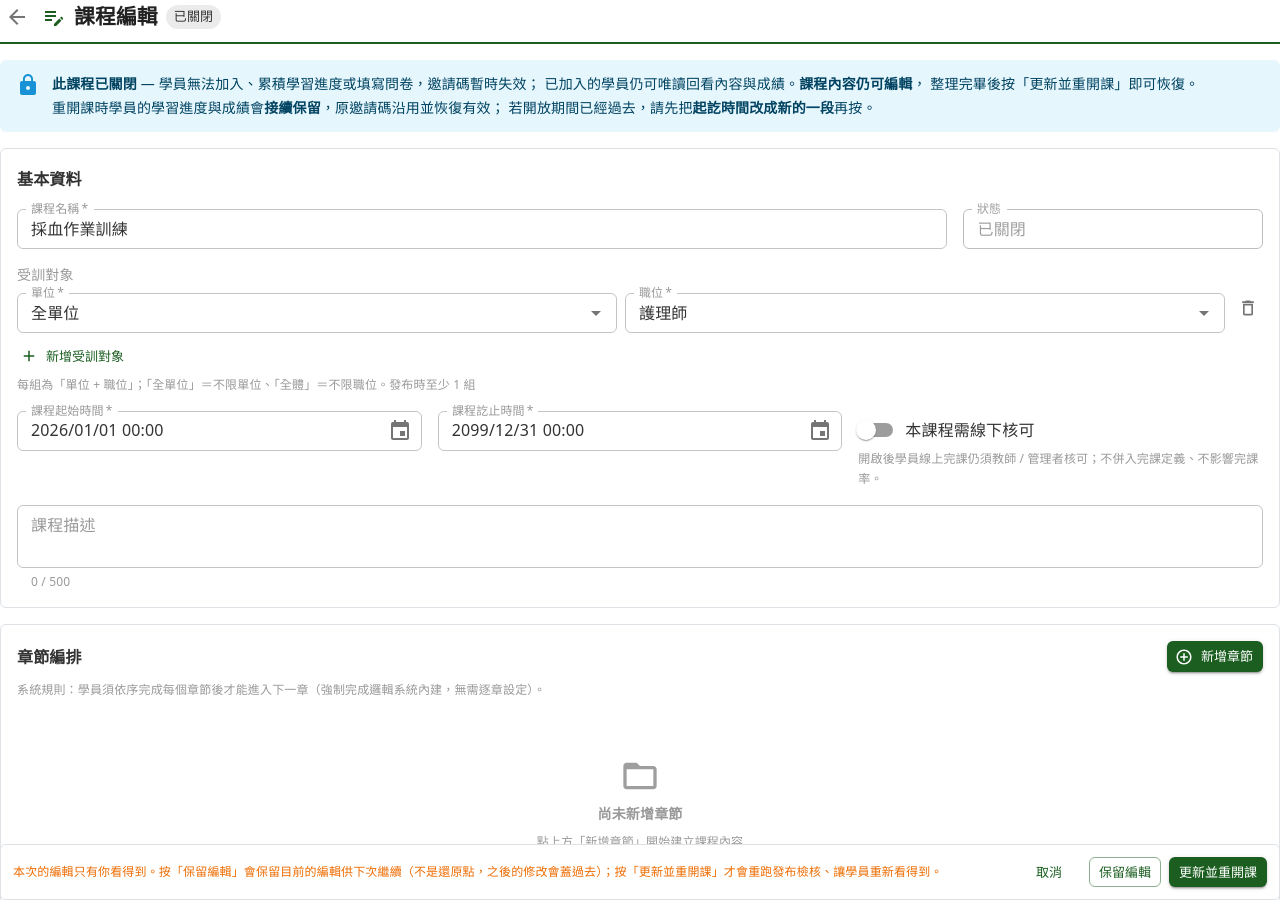
更新並重開課撞上問卷凍結（#768 第 11 項） › 開出帶「放棄問卷的編輯」的視窗，說明重按「更新並重開課」
The width and height of the screenshot is (1280, 900).
Click the button "更新並重開課": (1218,872) 1169,856 -> 1267,887
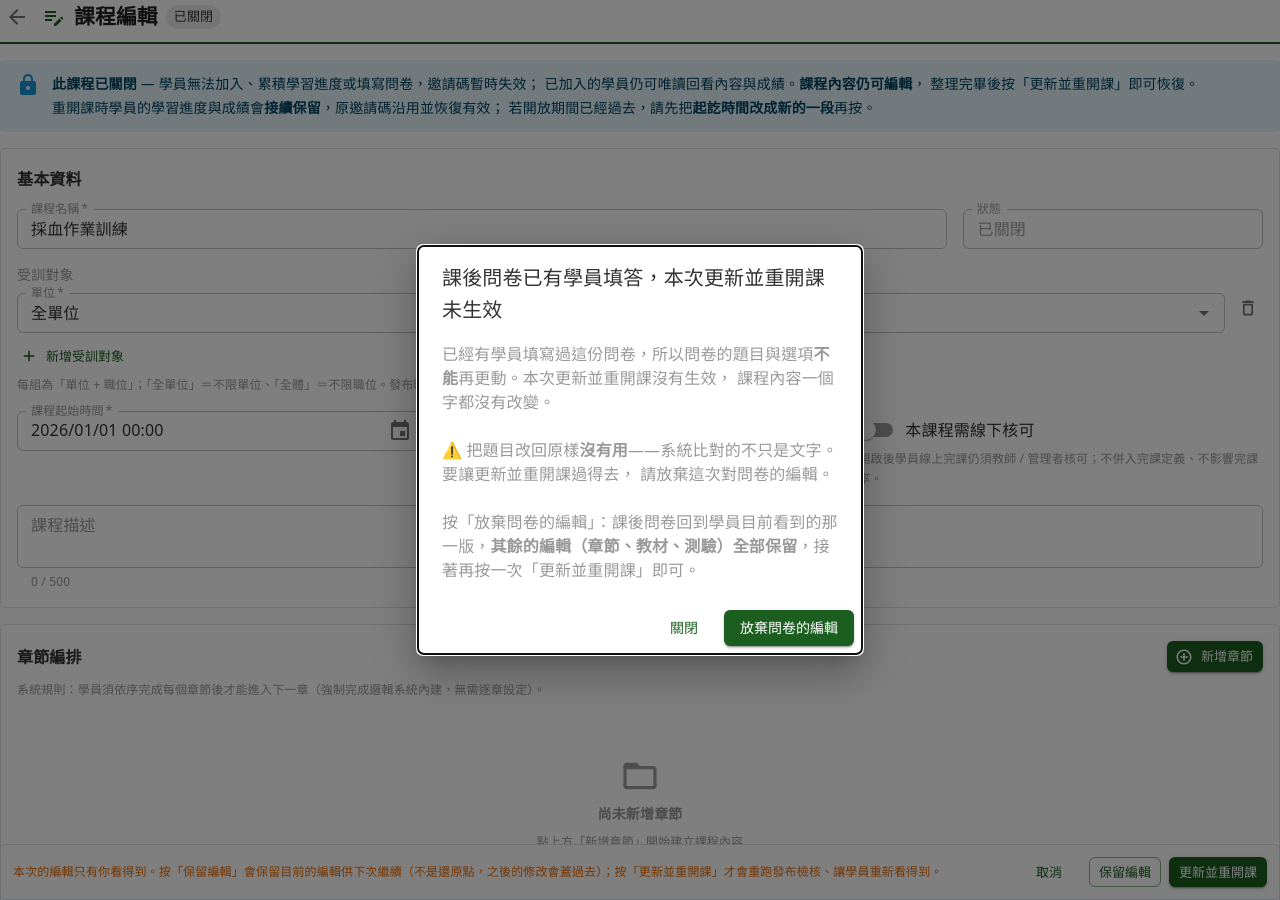
Expected: the dialog does not show "再按一次「更新」即可", 418,246 -> 862,654
Expected: the button "放棄問卷的編輯" is shown
Expected: the dialog shows "再按一次「更新並重開課」", 418,246 -> 862,654
Click the button "放棄問卷的編輯": (789,628) 724,610 -> 854,646
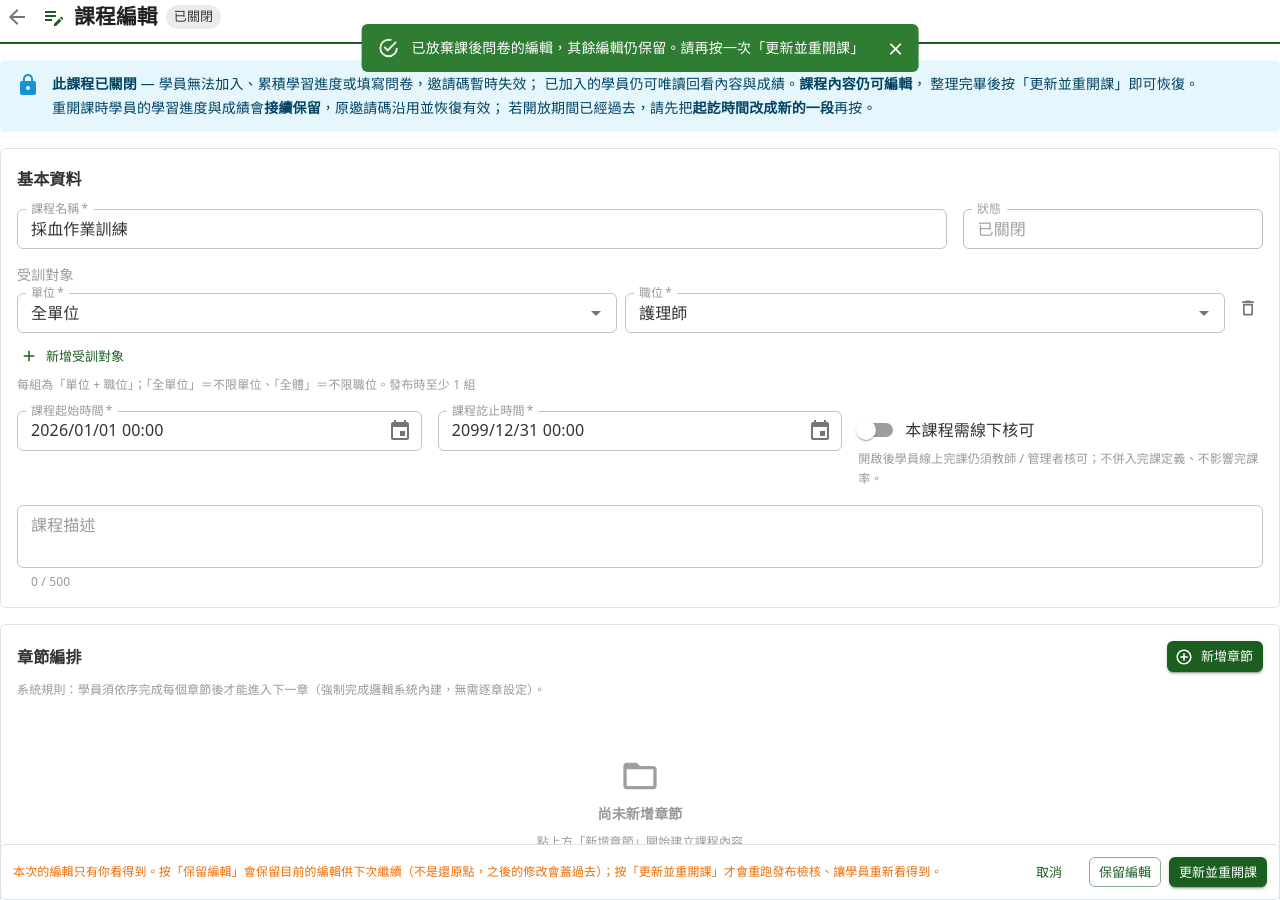
Expected: the text "已放棄課後問卷的編輯，其餘編輯仍保留。請再按一次「更新並重開課」" is shown, 412,38 -> 864,57
